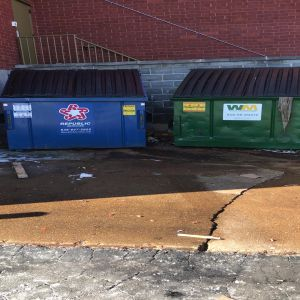Dumpster: (1, 67, 148, 155), (163, 66, 300, 150)
